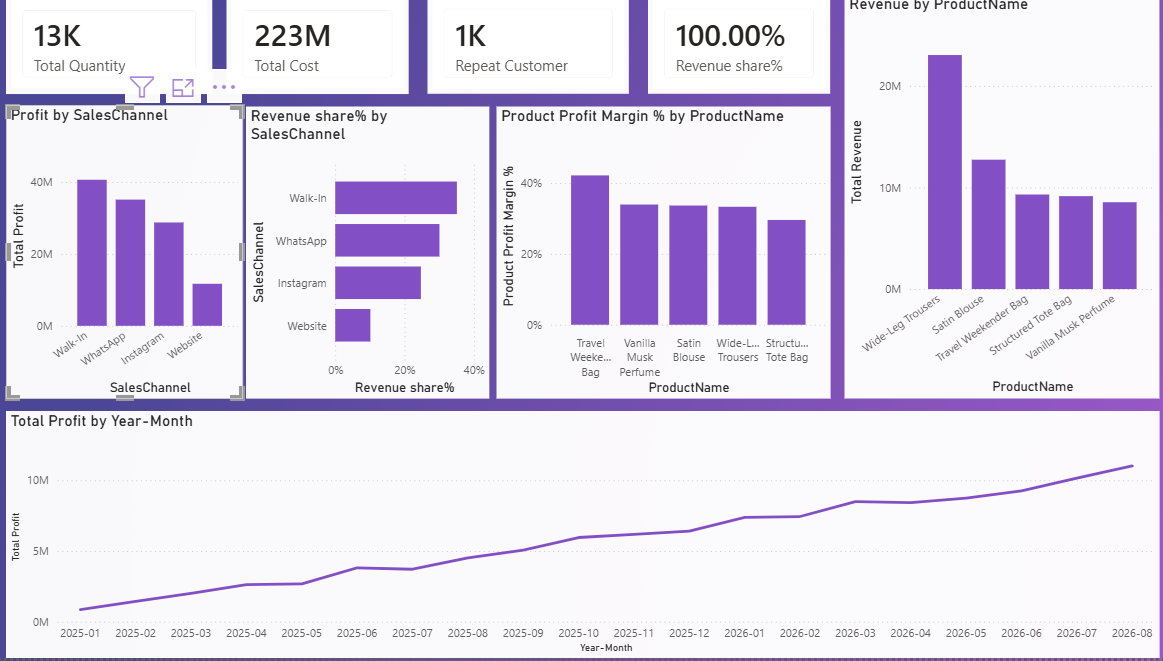

Layout of this report page (visuals, bound fields, positions):
{"tool":"powerbi","page":{"name":"Product Dashboard","canvas":[1280,720],"ordinal":1},"visuals":[{"type":"columnChart","title":"Profit by SalesChannel","fields":{"Category":["Orders.SalesChannel"],"Y":["Orders.Total Profit"]},"box":[13,123.1,255.8,317.4],"z":0},{"type":"clusteredBarChart","fields":{"Category":["Orders.SalesChannel"],"Y":["Orders.Revenue share%"]},"box":[272.1,124.7,262.7,315.6],"z":1000},{"type":"cardVisual","fields":{"Data":["Orders.Total Cost"]},"box":[251.3,3.8,196.5,107.7],"z":2000},{"type":"cardVisual","fields":{"Data":["Orders.Total Quantity"]},"box":[13.2,3.8,223,107.7],"z":3000},{"type":"cardVisual","fields":{"Data":["Orders.Repeat Customer"]},"box":[468.7,1.9,217.3,109.6],"z":4000},{"type":"cardVisual","fields":{"Data":["Orders.Revenue share%"]},"box":[706.8,1.9,196.5,109.6],"z":5000},{"type":"columnChart","title":"Revenue by ProductName","fields":{"Y":["Orders.Total Revenue"],"Category":["Products.ProductName"]},"box":[918.4,3.8,340.2,436.5],"z":6000},{"type":"columnChart","fields":{"Y":["Orders.Product Profit Margin %"],"Category":["Products.ProductName"]},"box":[542.4,124.7,360.9,315.6],"z":7000},{"type":"lineChart","fields":{"Category":["DateTable.Year-Month"],"Y":["Orders.Total Profit"]},"box":[13.2,453.5,1245.4,266.5],"z":8000}]}

Visuals, with their boxes in screenshot pixels (x1, y1, x2, y2), scaled from the page's 1280x720 canvas onto the 1163x661 screenshot:
"Profit by SalesChannel" columnChart: region(12, 113, 244, 404)
clusteredBarChart - Orders.SalesChannel x Orders.Revenue share%: region(247, 114, 486, 404)
cardVisual - Orders.Total Cost: region(228, 3, 407, 102)
cardVisual - Orders.Total Quantity: region(12, 3, 215, 102)
cardVisual - Orders.Repeat Customer: region(426, 2, 623, 102)
cardVisual - Orders.Revenue share%: region(642, 2, 821, 102)
"Revenue by ProductName" columnChart: region(834, 3, 1144, 404)
columnChart - Orders.Product Profit Margin % x Products.ProductName: region(493, 114, 821, 404)
lineChart - DateTable.Year-Month x Orders.Total Profit: region(12, 416, 1144, 660)
